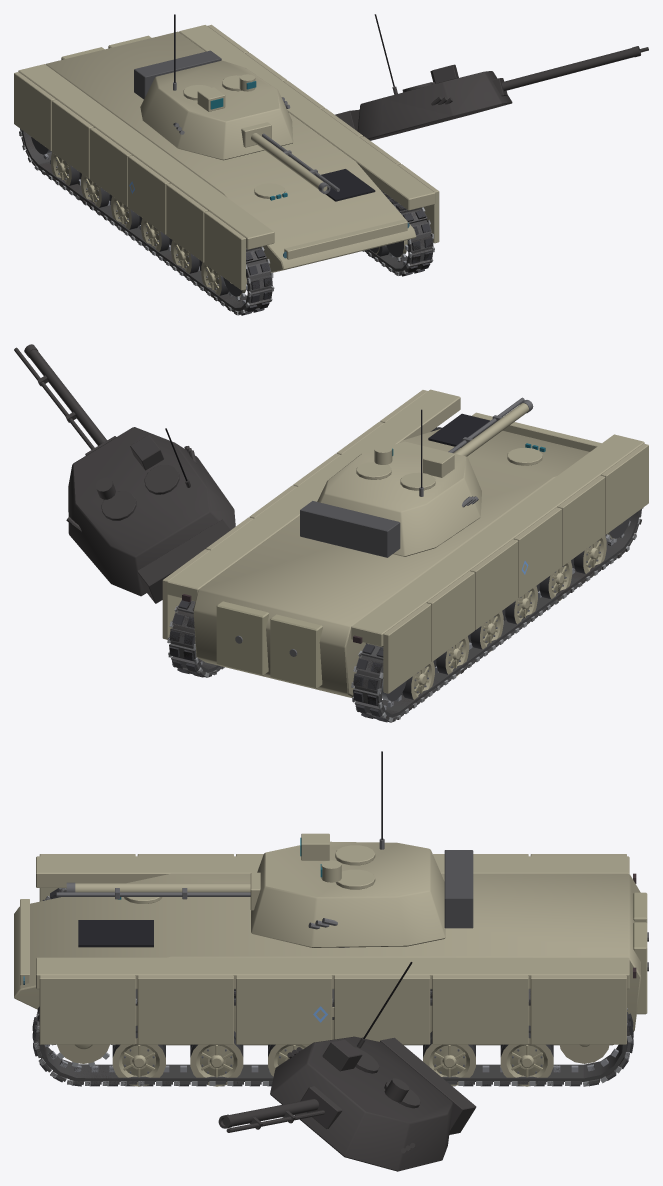
The model's file is ifv__zbd_04a.glb.
The picture shows the model from 3 angles, top to bottom: view 1: azimuth 30°, elevation 25°; view 2: azimuth 150°, elevation 25°; view 3: azimuth 270°, elevation 25°; orthographic projection. The views are drawn at different scales.
Parts seen in each view (by area): view 1: Hull_Mesh, Turret_Mesh, Wreck, Track_L_Mesh, Track_R_Mesh, Gun_Mesh, Wheel_L4_Mesh, Wheel_L2_Mesh, Wheel_L0_Mesh, Wheel_L3_Mesh, Wheel_L1_Mesh, Wheel_L5_Mesh; view 2: Hull_Mesh, Wreck, Turret_Mesh, Track_L_Mesh, Track_R_Mesh, Gun_Mesh, Wheel_L3_Mesh, Wheel_L2_Mesh, Wheel_L1_Mesh, Wheel_L4_Mesh, Wheel_L5_Mesh, Wheel_L0_Mesh; view 3: Hull_Mesh, Wreck, Turret_Mesh, Track_R_Mesh, Gun_Mesh, Wheel_R0_Mesh, Wheel_R5_Mesh, Wheel_R4_Mesh, Wheel_R1_Mesh, Sprocket_R_Mesh, Idler_R_Mesh, Wheel_R3_Mesh.
Part boxes in pixels (x1,y1,x2,y2): Hull_Mesh: (14,24,439,290); Turret_Mesh: (134,14,293,160); Wreck: (19,14,648,315); Track_L_Mesh: (19,128,274,315); Track_R_Mesh: (362,190,434,276); Gun_Mesh: (241,122,339,194); Wheel_L4_Mesh: (171,240,202,273); Wheel_L2_Mesh: (111,196,142,231); Wheel_L0_Mesh: (51,152,81,187); Wheel_L3_Mesh: (141,218,172,253); Wheel_L1_Mesh: (81,174,112,207); Wheel_L5_Mesh: (201,262,228,297); Hull_Mesh: (162,389,648,697); Wreck: (14,344,642,722); Turret_Mesh: (300,409,481,557); Track_L_Mesh: (351,507,643,722); Track_R_Mesh: (167,427,441,677); Gun_Mesh: (448,397,533,456); Wheel_L3_Mesh: (502,586,537,624); Wheel_L2_Mesh: (468,611,503,651); Wheel_L1_Mesh: (433,636,469,676); Wheel_L4_Mesh: (536,560,572,600); Wheel_L5_Mesh: (571,535,606,576); Wheel_L0_Mesh: (401,661,434,699); Hull_Mesh: (14,854,648,1045); Wreck: (32,888,630,1171); Turret_Mesh: (251,751,473,947); Track_R_Mesh: (32,989,633,1086); Gun_Mesh: (56,872,260,910); Wheel_R0_Mesh: (500,1025,553,1086); Wheel_R5_Mesh: (112,1025,165,1086); Wheel_R4_Mesh: (190,1031,243,1086); Wheel_R1_Mesh: (423,1031,475,1086); Sprocket_R_Mesh: (52,1044,114,1067); Idler_R_Mesh: (559,1044,609,1063); Wheel_R3_Mesh: (268,1044,309,1076).
Size of what is drawn, in the model's own units: 8.51 by 3.37 by 7.53.
